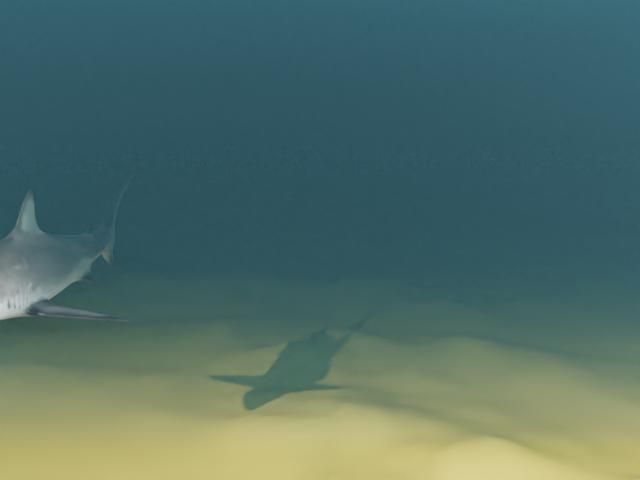Carribean Shark.001: (0, 172, 137, 330)
